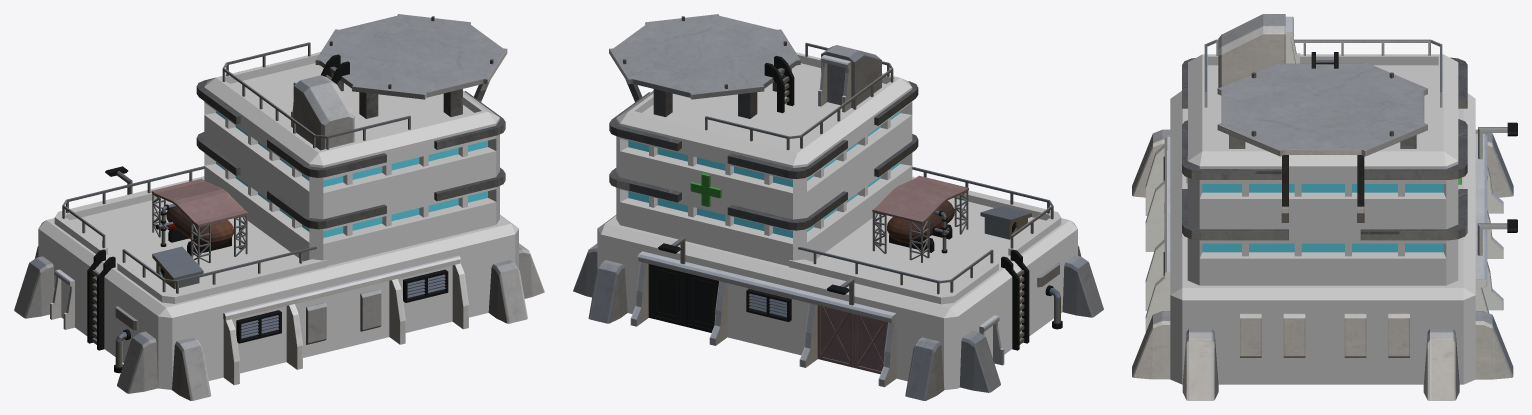
The model's file is House5.fbx.
3 views of the same model, side by side, from view 1: azimuth 30°, elevation 25°; view 2: azimuth 150°, elevation 25°; view 3: azimuth 270°, elevation 25° (orthographic). The views are drawn at different scales.
Parts seen in each view (by area): view 1: Cube.052_Cube.048; view 2: Cube.052_Cube.048; view 3: Cube.052_Cube.048.
Part boxes in pixels (<box>): Cube.052_Cube.048: <box>14,14,544,400</box>; Cube.052_Cube.048: <box>573,14,1103,400</box>; Cube.052_Cube.048: <box>1132,14,1517,400</box>.
Size of the model in its own units: 1882 by 998 by 1279.
